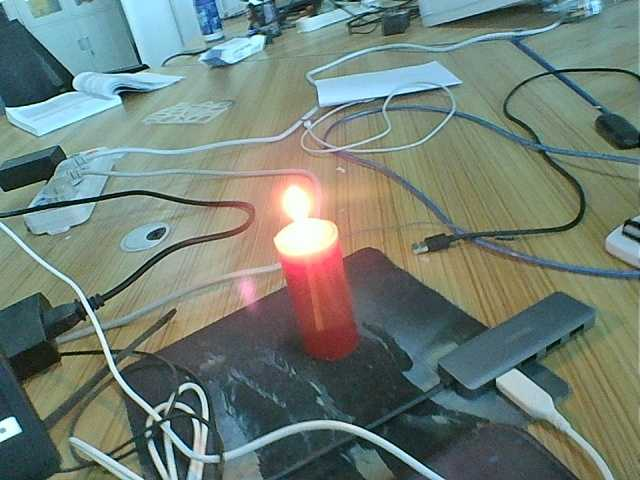candle: (276, 255, 365, 357)
fire: (275, 184, 331, 249)
